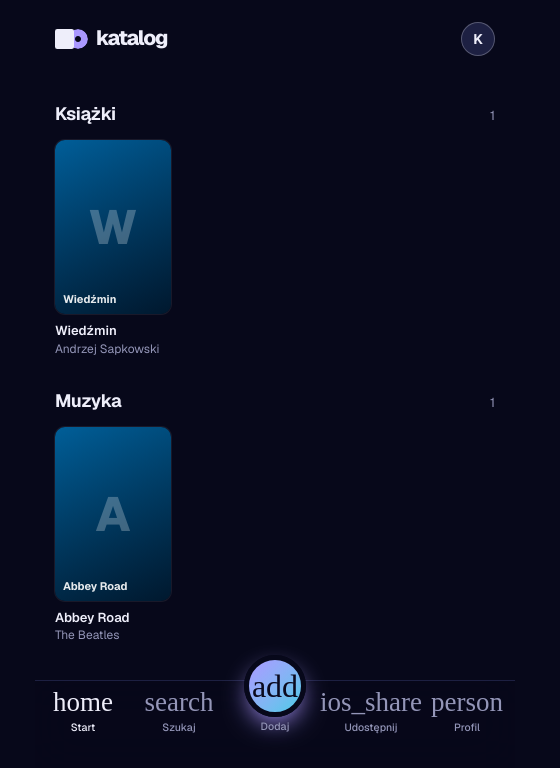
Dashboard › collection types › changes the types from the profile and brings hidden items back
Check: the element "Książki" is shown, box top-left (35, 100), bottom-right (515, 360)
What coordinates should you click on to do the following:
click the button "Profil"
I would click on:
 (467, 724)
Its box is top-left (419, 689), bottom-right (515, 760).
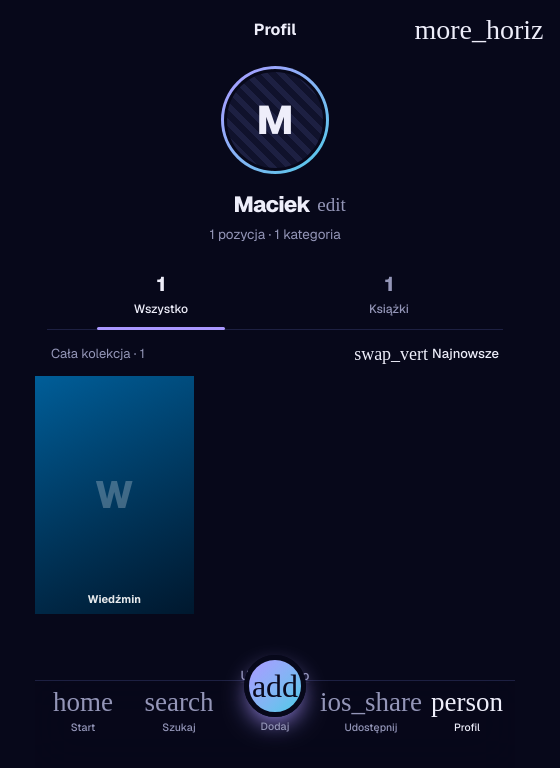
What coordinates should you click on to do the following:
click the button named "Więcej opcji"
I would click on:
 (479, 30)
Its box is top-left (457, 8), bottom-right (501, 52).
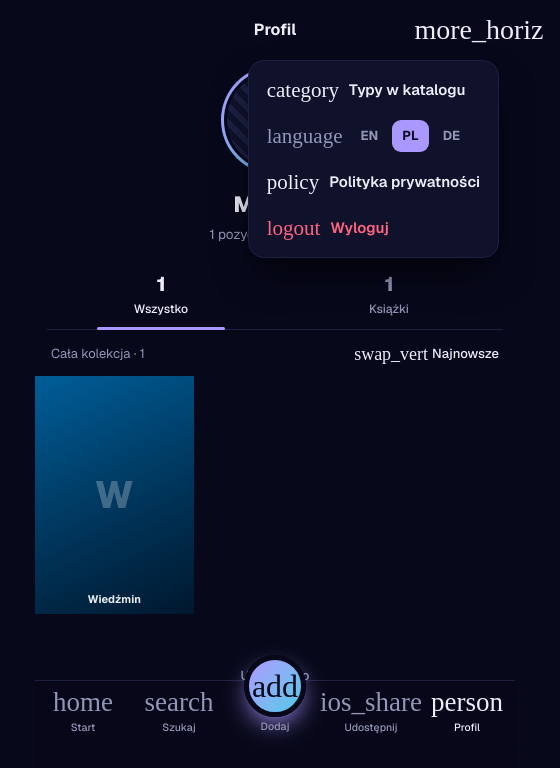
What coordinates should you click on to do the following:
click the menu item "Typy w katalogu"
I would click on:
 (373, 90)
Its box is top-left (255, 67), bottom-right (492, 113).
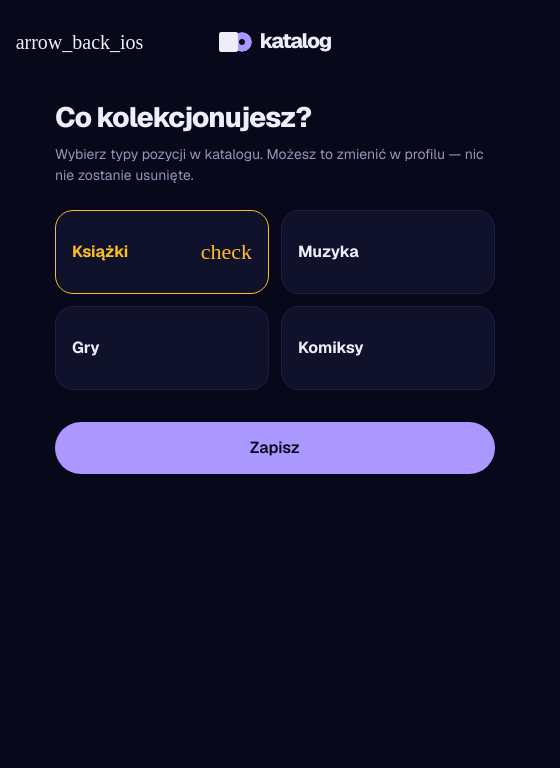
What coordinates should you click on to do the following:
click the button "Muzyka"
I would click on:
 (388, 252)
Its box is top-left (281, 210), bottom-right (495, 294).
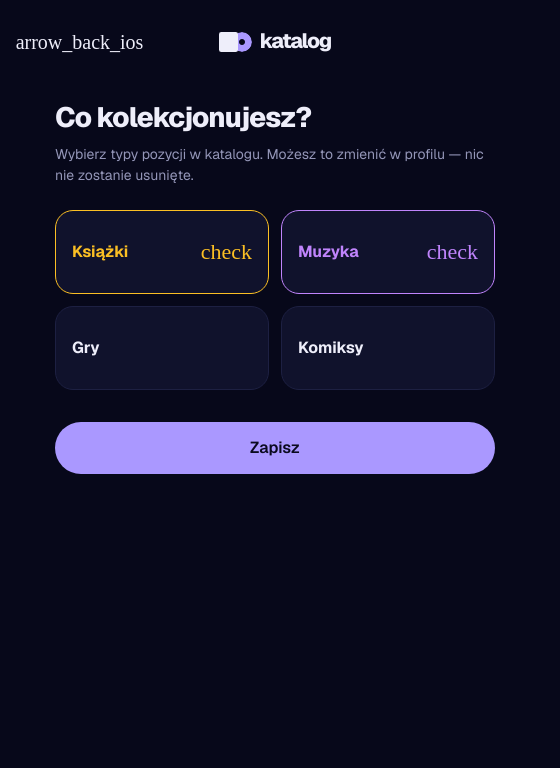
What coordinates should you click on to do the following:
click the button "Zapisz"
I would click on:
 (275, 448)
Its box is top-left (55, 422), bottom-right (495, 474).
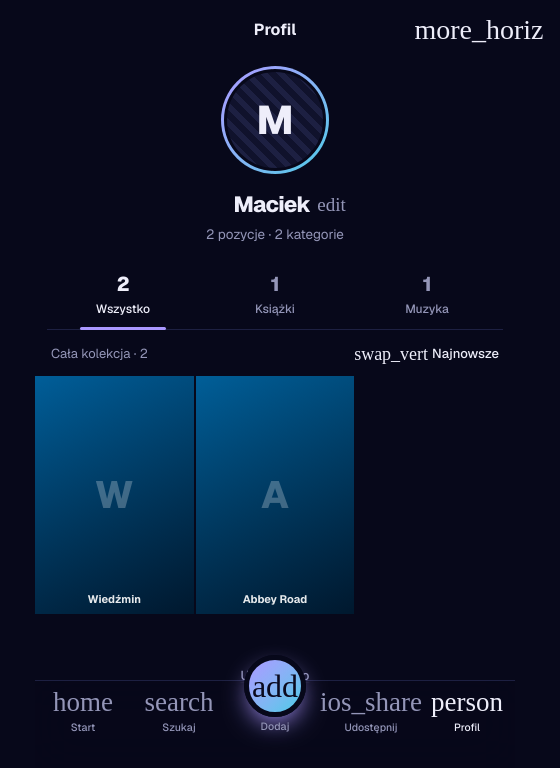
Check: the text "Cała kolekcja · 2" is shown, box top-left (51, 344), bottom-right (148, 364)
